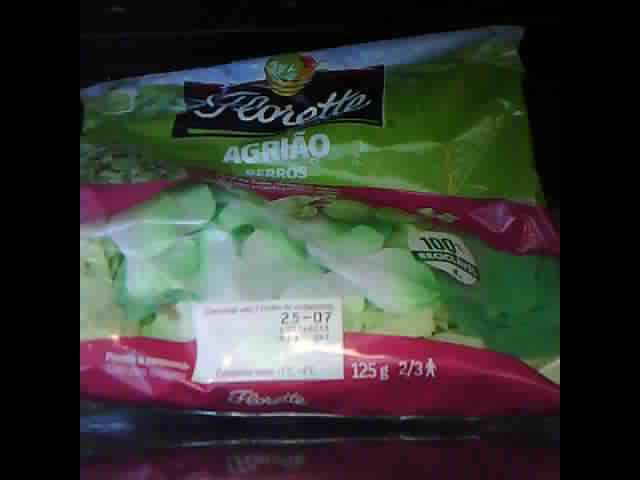florette: (81, 22, 559, 433)
